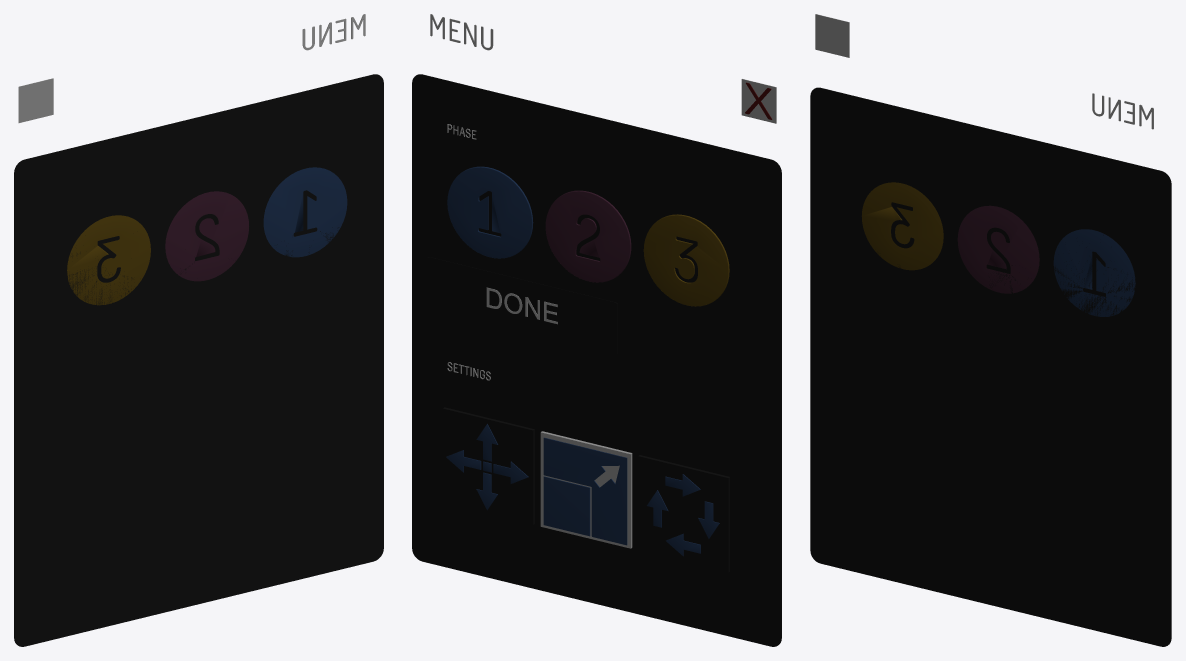
The model's file is HoverMenu.FBX.
3 views of the same model, side by side, from view 1: azimuth 30°, elevation 25°; view 2: azimuth 150°, elevation 25°; view 3: azimuth 330°, elevation 25° (orthographic). The views are drawn at different scales.
Visible parts, largest first — view 1: Frame, Phase1, Phase2, Phase3, Box003, MENU; view 2: Frame, DONE_Frame, Box004, Box001, Phase1, Phase3, Phase2, Object move002, Object move001, Box002, Box003, DONE (+1 smaller); view 3: Frame, Phase2, Phase1, Phase3, Box003, MENU.
Part boxes in pixels (x1=…): Frame: x1=14, y1=74, x2=383, y2=646; Phase1: x1=263, y1=167, x2=347, y2=257; Phase2: x1=165, y1=191, x2=248, y2=281; Phase3: x1=67, y1=215, x2=150, y2=305; Box003: x1=18, y1=78, x2=53, y2=122; MENU: x1=302, y1=14, x2=365, y2=50; Frame: x1=412, y1=74, x2=781, y2=646; DONE_Frame: x1=427, y1=257, x2=617, y2=354; Box004: x1=638, y1=455, x2=729, y2=572; Box001: x1=443, y1=407, x2=534, y2=524; Phase1: x1=447, y1=166, x2=533, y2=258; Phase3: x1=643, y1=214, x2=729, y2=306; Phase2: x1=545, y1=190, x2=631, y2=282; Object move002: x1=543, y1=437, x2=627, y2=545; Object move001: x1=543, y1=476, x2=590, y2=536; Box002: x1=540, y1=431, x2=632, y2=548; Box003: x1=741, y1=79, x2=776, y2=123; DONE: x1=486, y1=287, x2=557, y2=324; Frame: x1=810, y1=87, x2=1171, y2=646; Phase2: x1=957, y1=205, x2=1039, y2=293; Phase1: x1=1053, y1=229, x2=1135, y2=316; Phase3: x1=861, y1=182, x2=943, y2=270; Box003: x1=815, y1=14, x2=849, y2=57; MENU: x1=1092, y1=93, x2=1153, y2=129.
Size of the model in its own units: 532 by 772 by 6.2.
